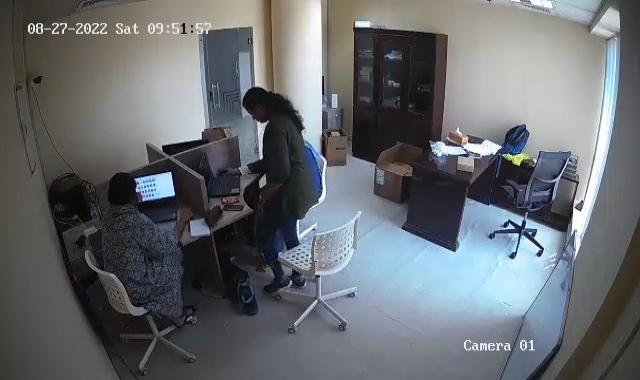no_hairnet: (242, 85, 281, 128), (105, 172, 134, 206)
